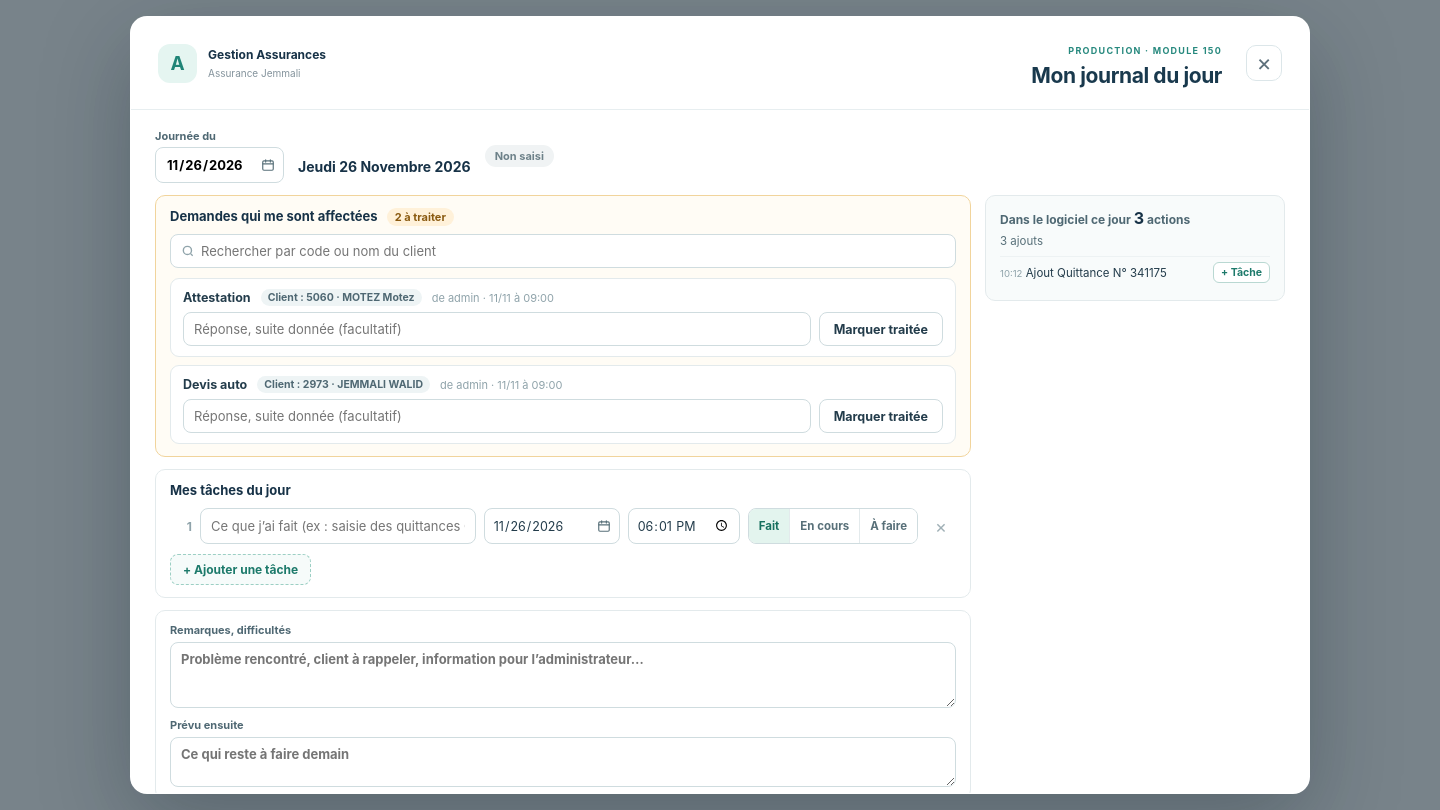
Test: the employee searches the assigned requests by client code or client name
Check: the text "Client : 5060 · MOTEZ Motez" is shown, box [261, 289, 422, 306]
Type "jemmali" into the search field labelled "Rechercher par code ou nom du client". click: [563, 251]
box: [170, 234, 956, 268]
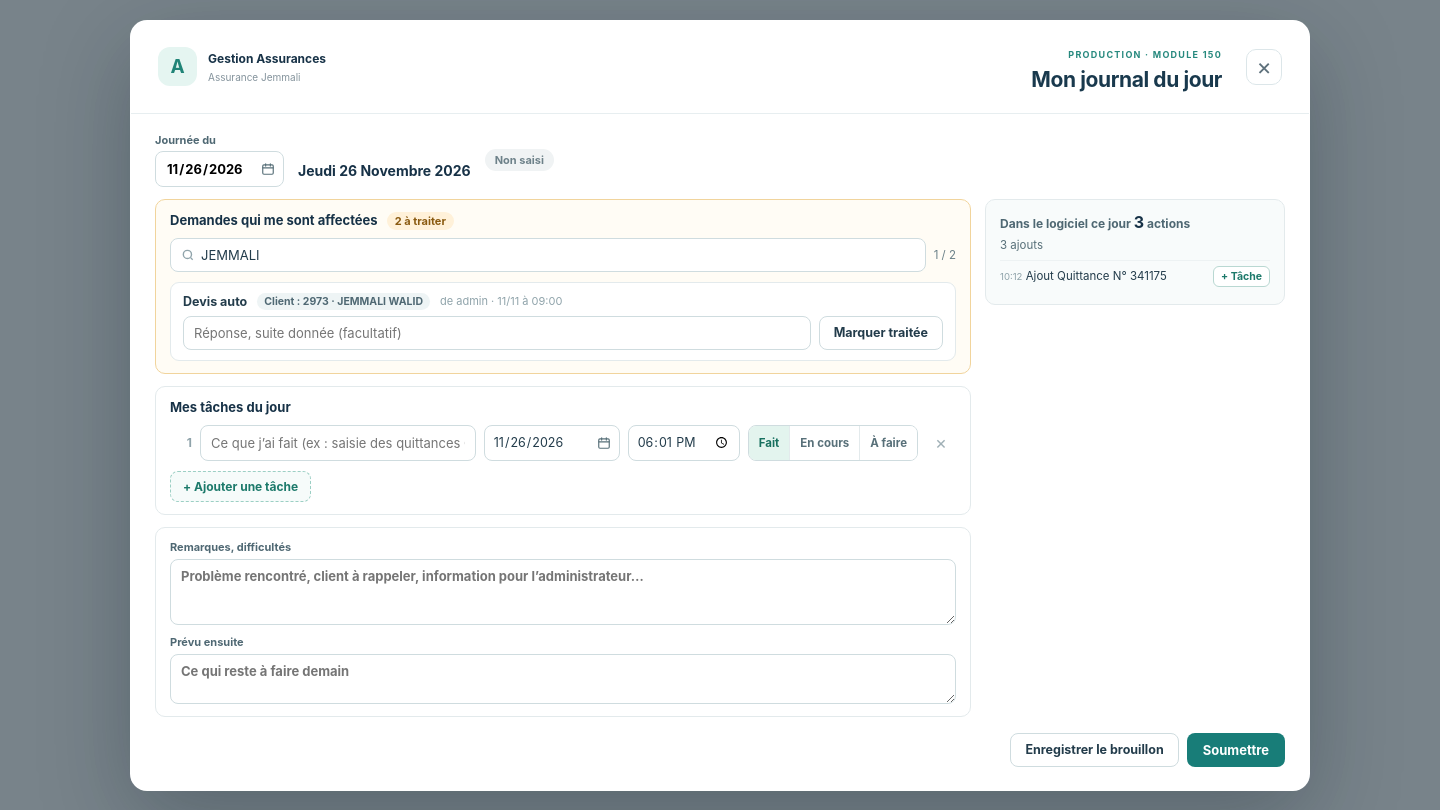
Check: the text "Devis auto" is shown, box [183, 294, 247, 308]
Check: the text "Attestation" is gone
Replace the text in the search field named "Rechercher par code ou nom du client" with "506". click: [548, 254]
box: [170, 238, 926, 272]
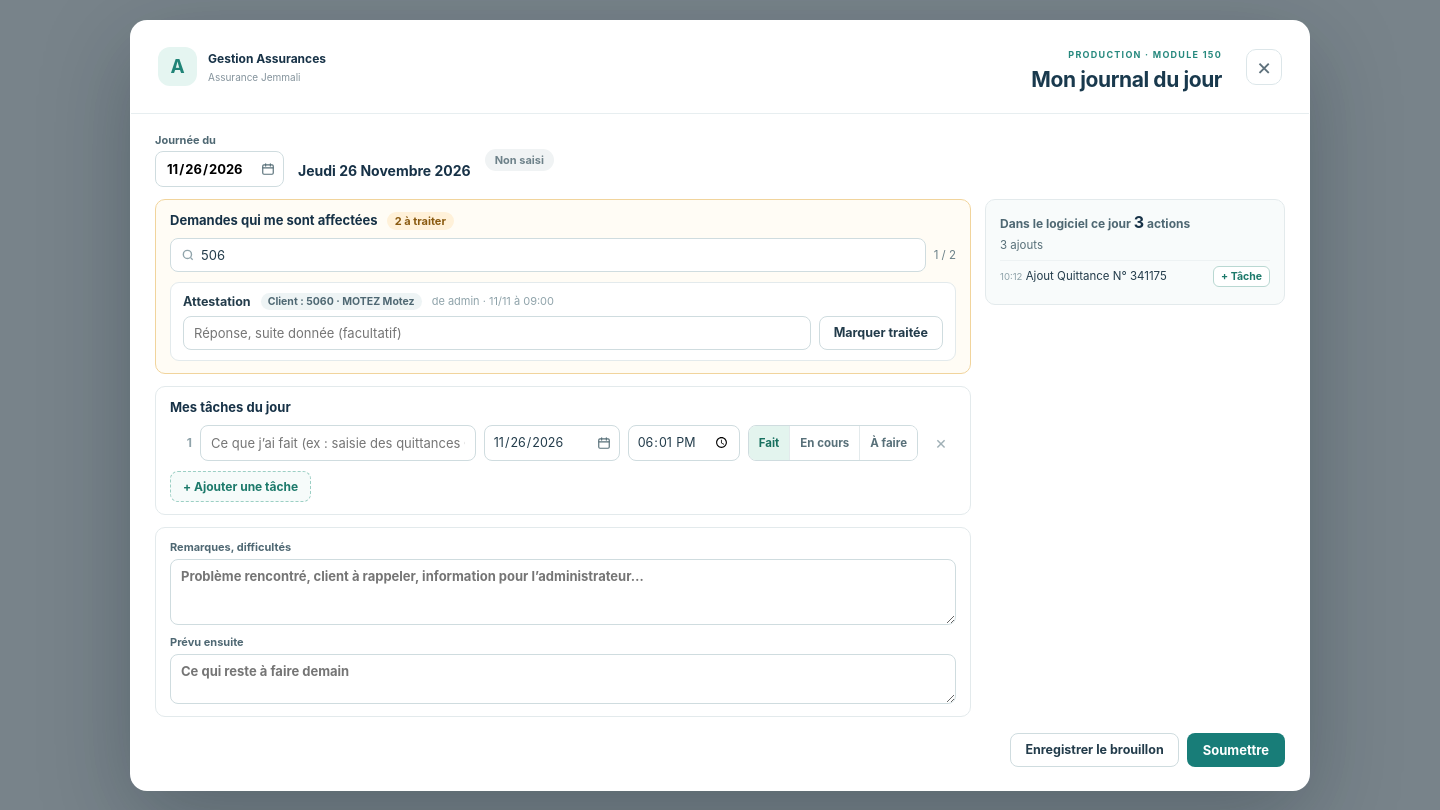
Check: the text "Attestation" is shown, box [183, 294, 251, 308]
Check: the text "Devis auto" is gone
Replace the text in the search field named "Rechercher par code ou nom du client" with "zzz". click: [548, 254]
box: [170, 238, 926, 272]
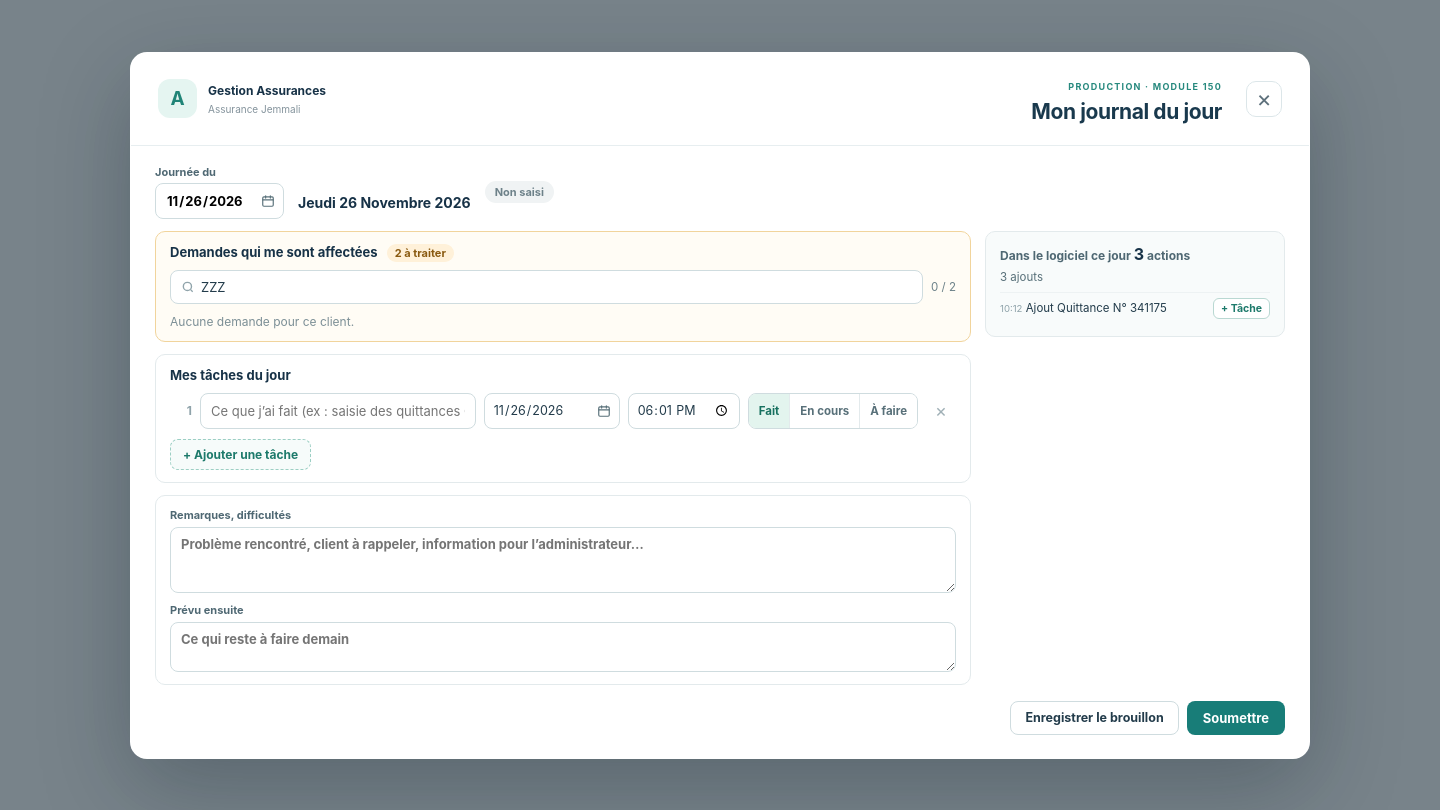
Check: the text "Aucune demande pour ce client." is shown, box [170, 314, 354, 328]
